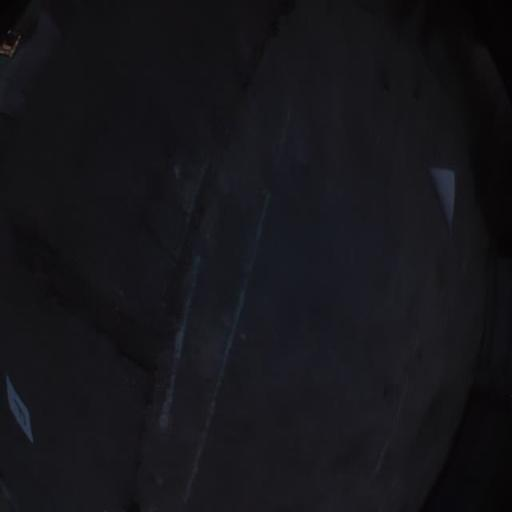F: (6, 376, 34, 445)
